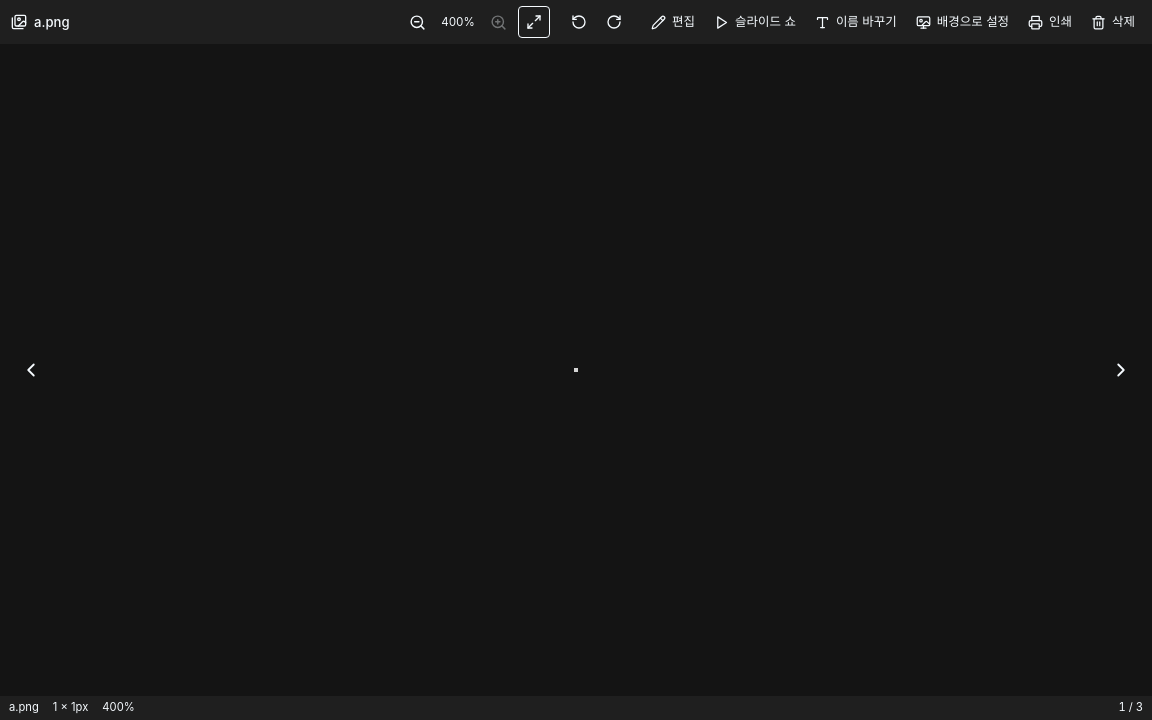
Test: PhotosApp 탐색 › 이전 사진 버튼이 처음에서 끝으로 돈다
Click the button named "이전 사진". click: coordinates (31, 370)
box: left=12, top=351, right=50, bottom=389
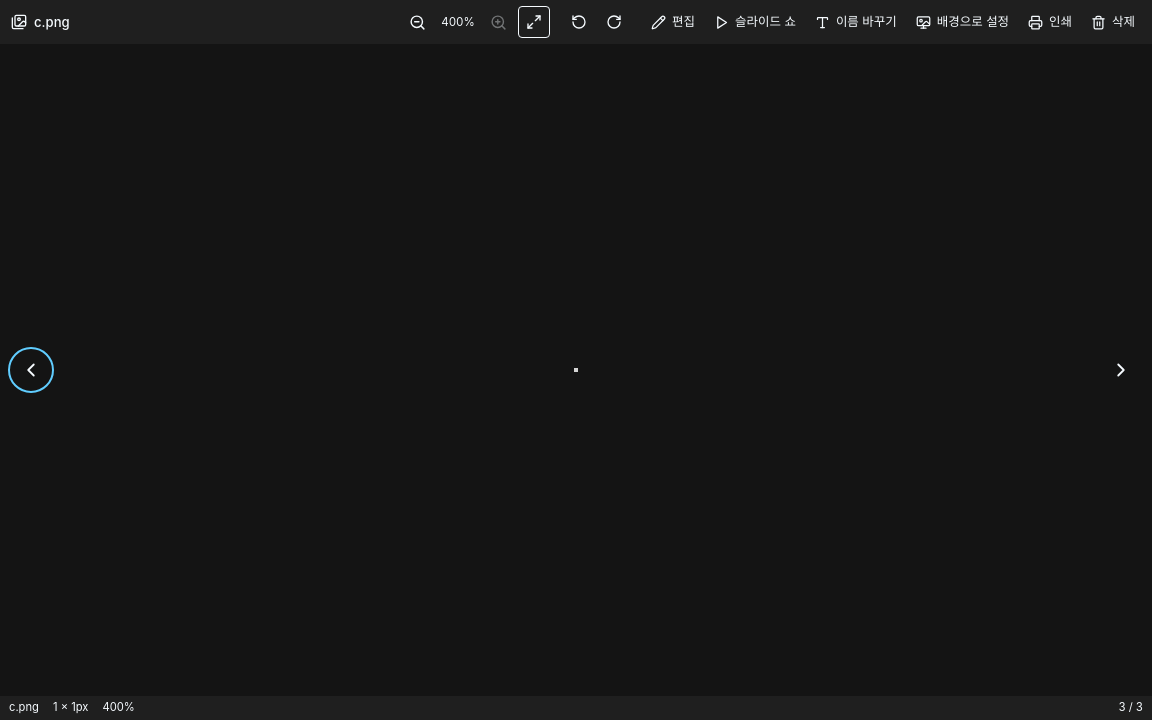
Now the text "3 / 3" is shown, box left=1118, top=700, right=1143, bottom=716
